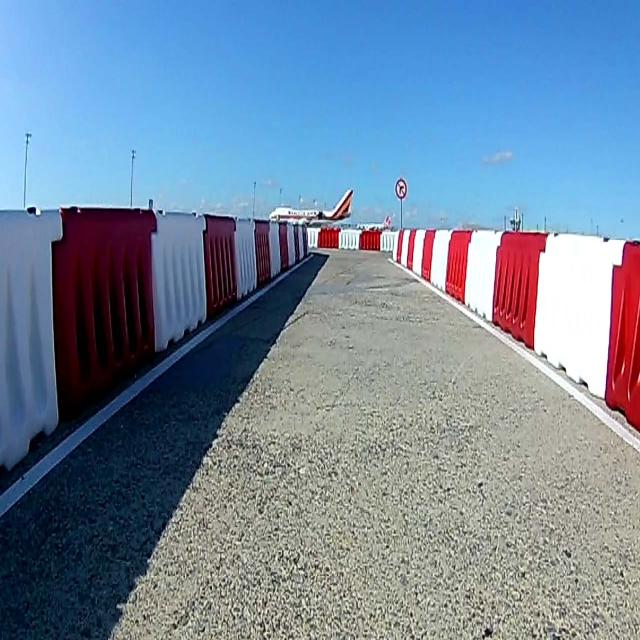sagadonulmez: (396, 180, 408, 199)
